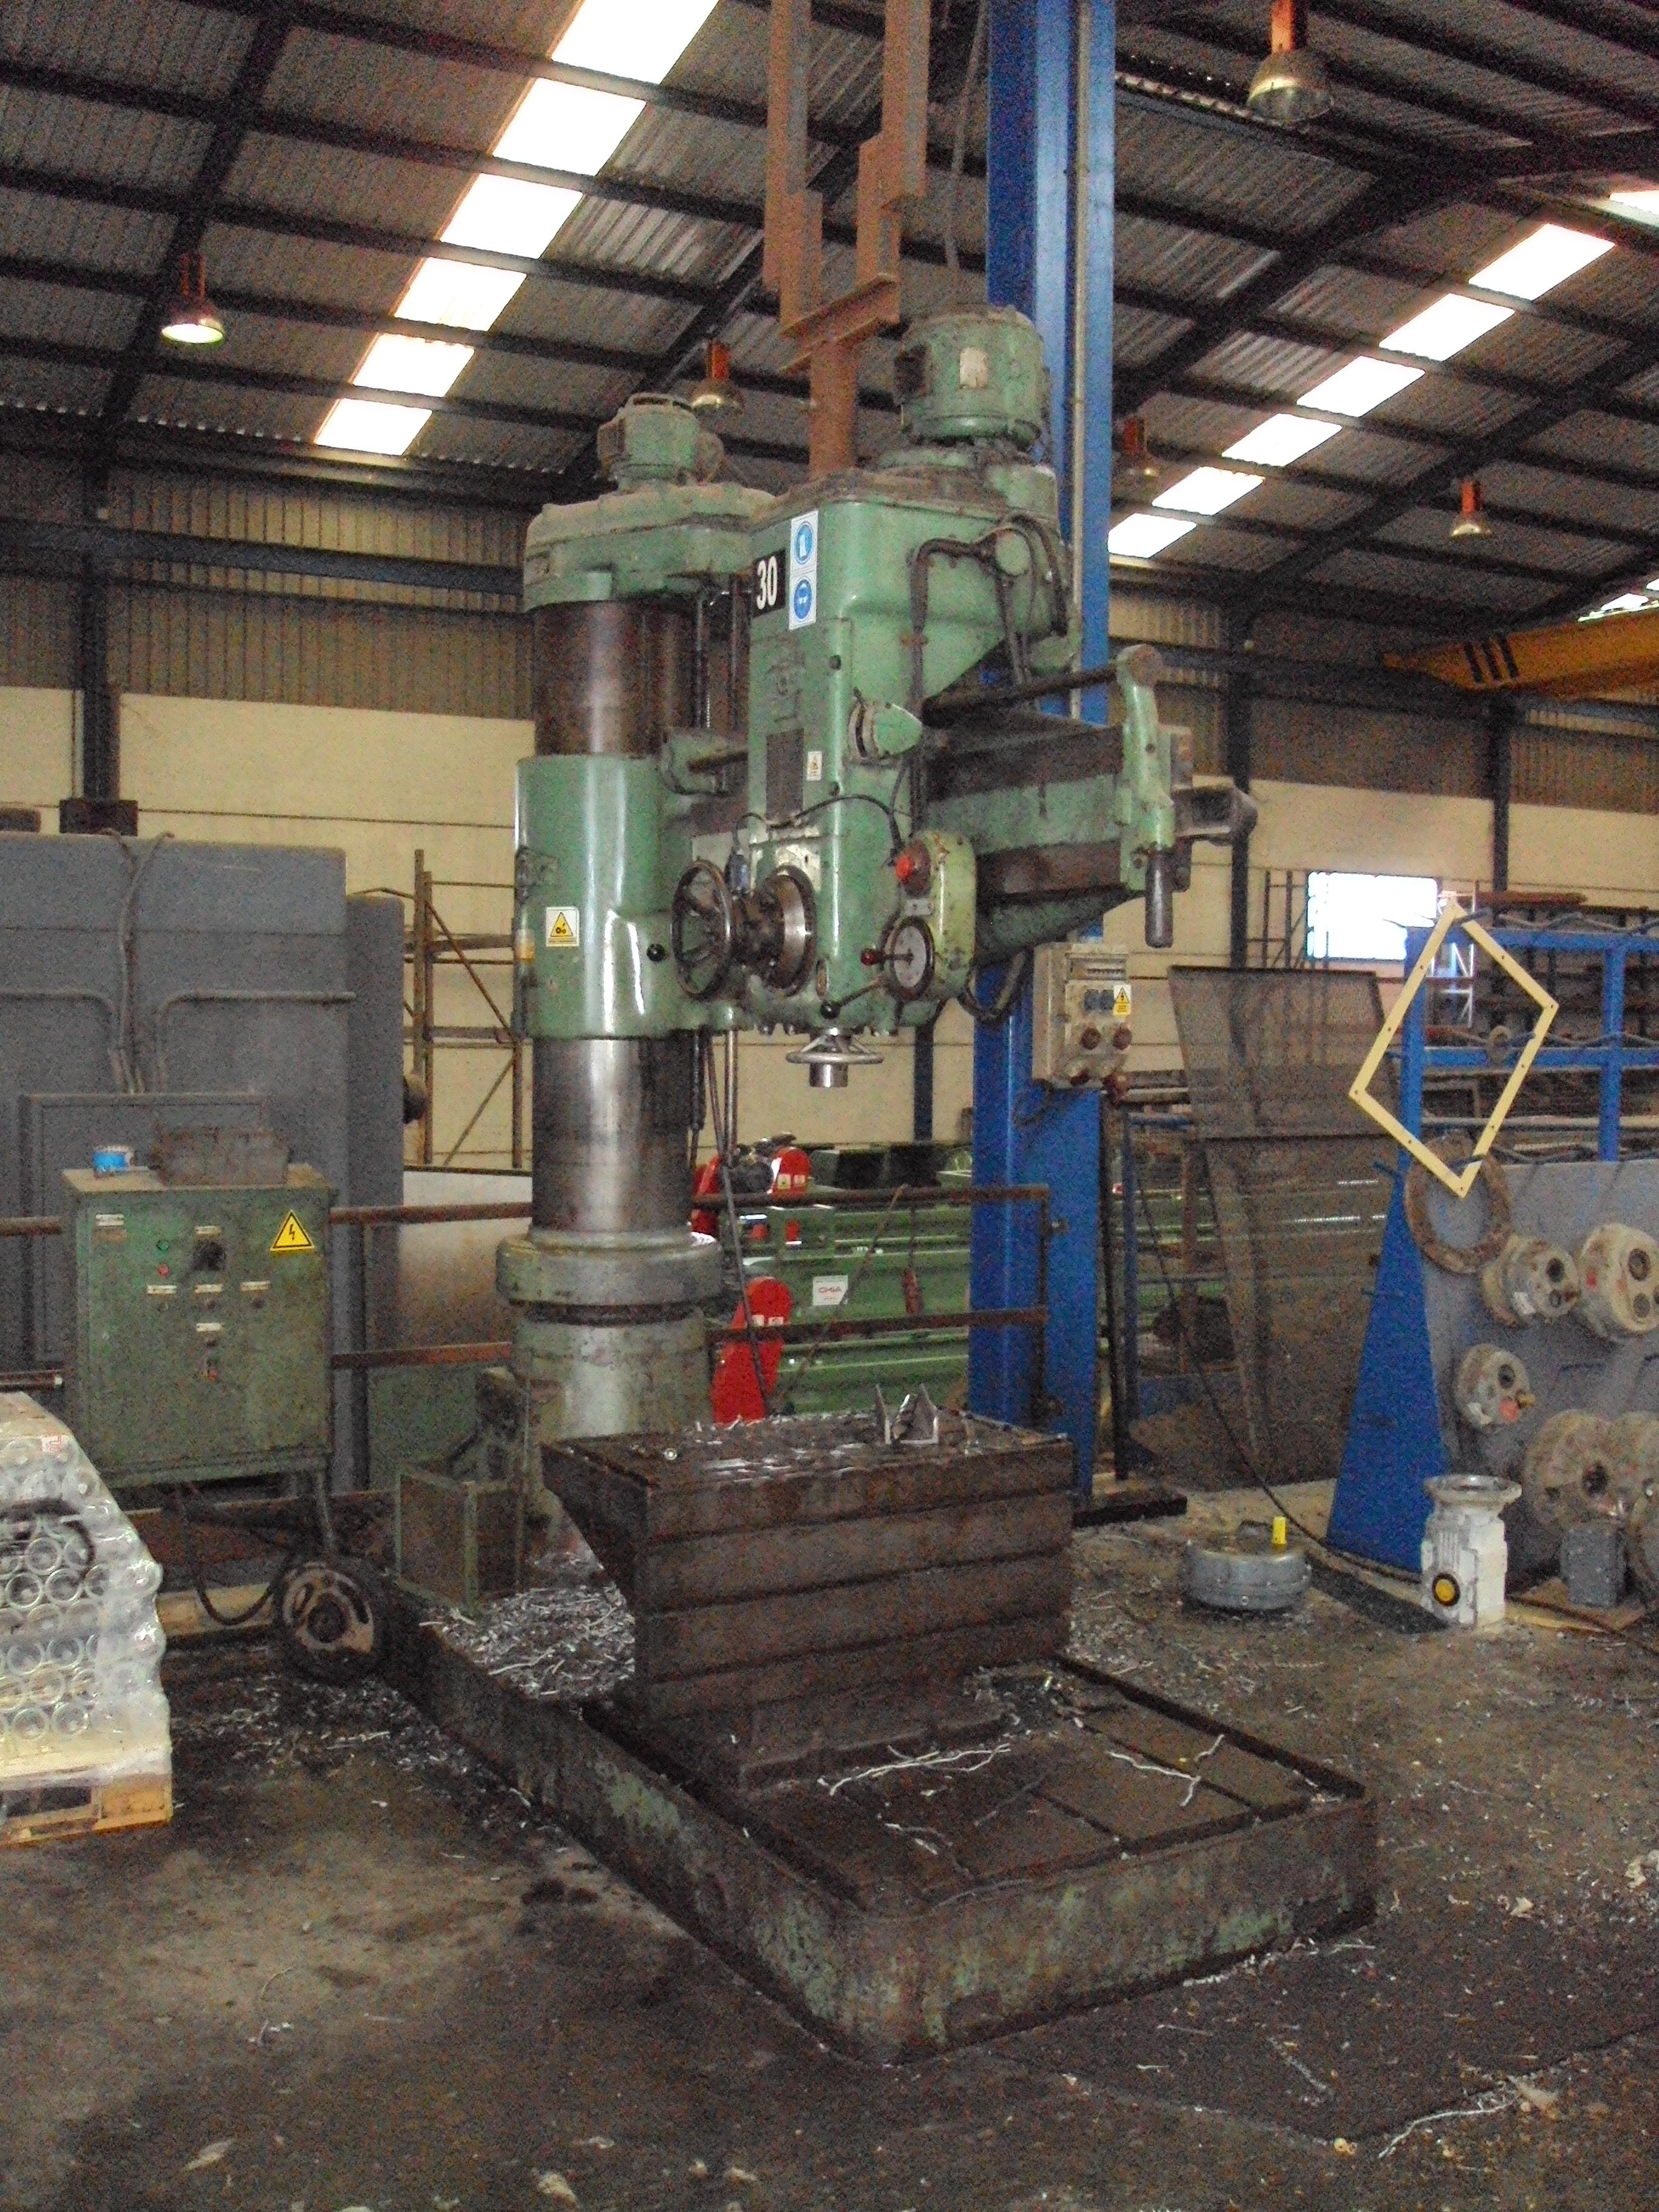falta_resguardo: (803, 1061, 854, 1120)
mandos_inseguros: (856, 894, 976, 1005)
